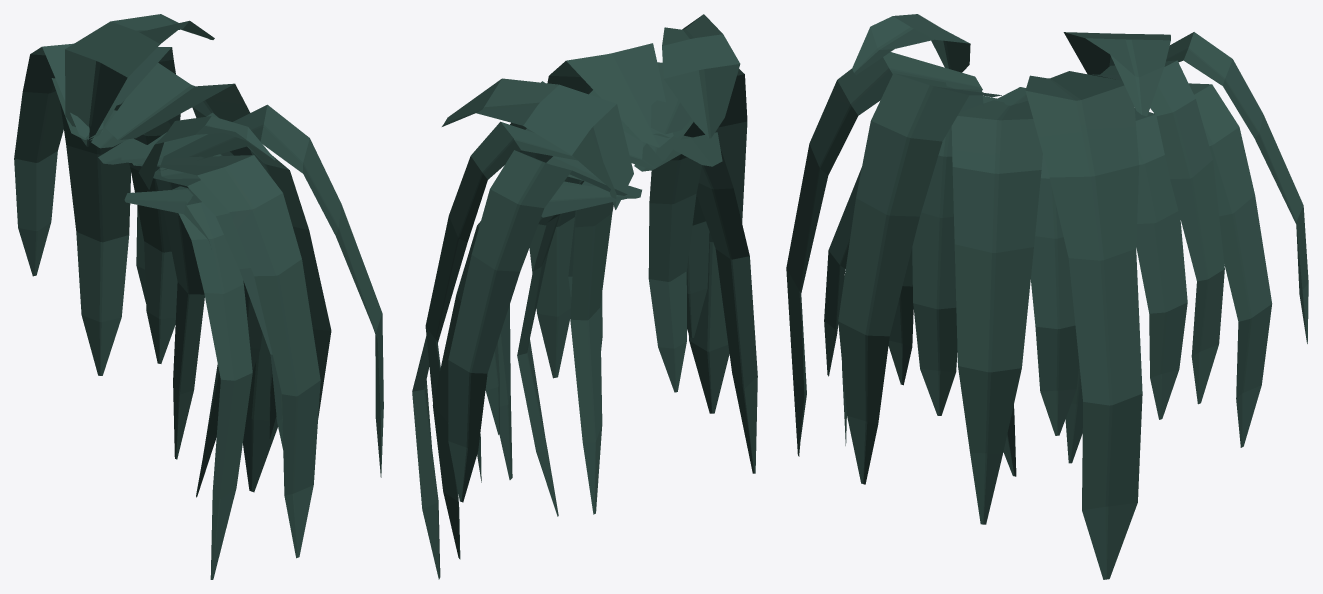
File: F Plant 1 Blue.fbx
3 views of the same model, side by side, from view 1: azimuth 30°, elevation 25°; view 2: azimuth 150°, elevation 25°; view 3: azimuth 270°, elevation 25° (orthographic). The views are drawn at different scales.
Parts seen in each view (by area): view 1: Plane.010; view 2: Plane.010; view 3: Plane.010.
Boxes of the visible parts, bbox=[...] form: Plane.010: bbox=[14, 14, 383, 579]; Plane.010: bbox=[412, 14, 757, 579]; Plane.010: bbox=[786, 14, 1308, 579].
Size of the model in its own units: 58.82 by 124 by 118.
